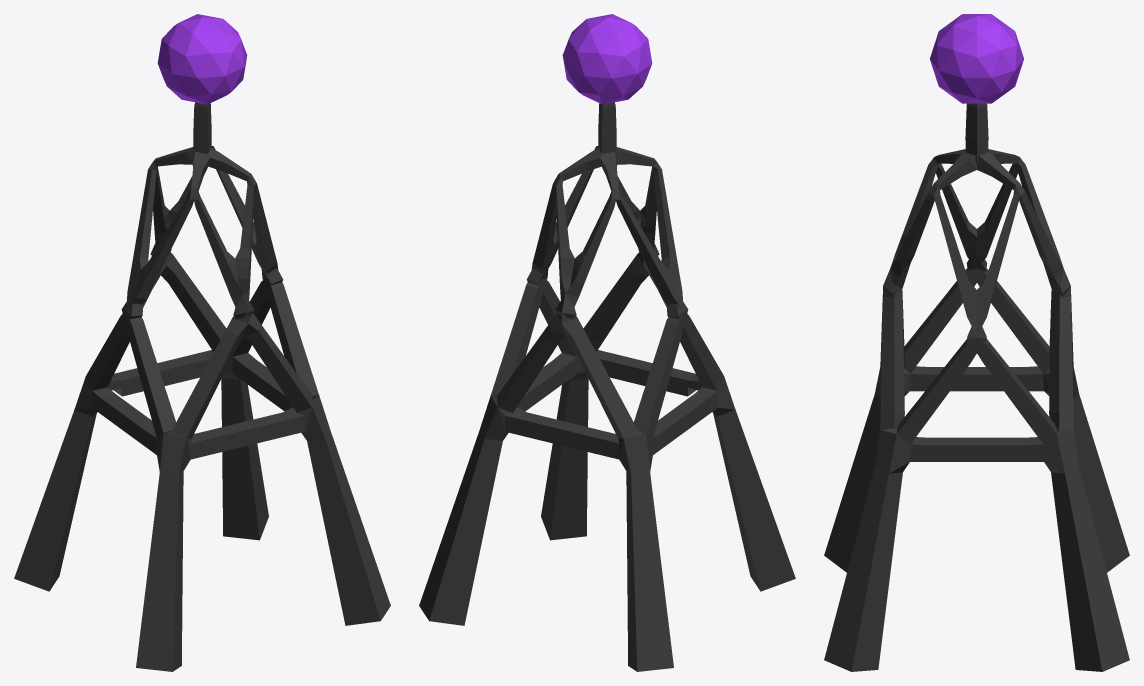
The model's file is Tower.fbx.
3 renders of one model, left to right at view 1: azimuth 30°, elevation 25°; view 2: azimuth 150°, elevation 25°; view 3: azimuth 270°, elevation 25°, orthographic. The views are drawn at different scales.
Visible parts, largest first — view 1: Radio Tower, Icosphere.016; view 2: Radio Tower, Icosphere.016; view 3: Radio Tower, Icosphere.016.
Boxes of the visible parts, x1,y1,x2,y2 form: Radio Tower: [14, 102, 390, 671]; Icosphere.016: [157, 14, 247, 104]; Radio Tower: [419, 102, 795, 671]; Icosphere.016: [562, 14, 652, 104]; Radio Tower: [824, 103, 1129, 671]; Icosphere.016: [930, 14, 1023, 103].
Size of the model in its own units: 486 by 1061 by 490.
